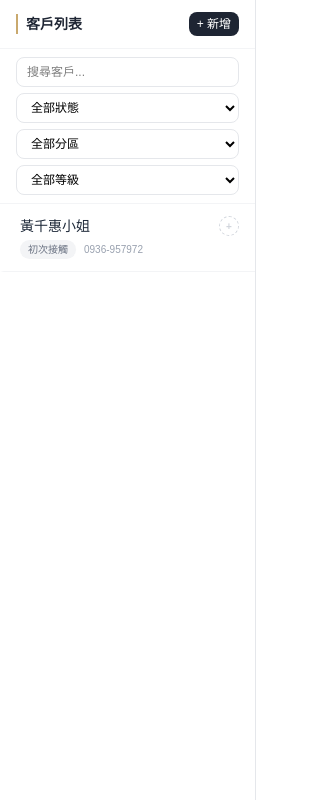
Test: ClientList — 客戶分級標籤 › 點徽章開啟選單，不會連帶觸發卡片本身的 select（現在改用 selectClient 內的 containment check，不是 stopPropagation）
What coordinates should you click on to do the following:
click the button with test id "grade-badge-c1"
I would click on:
 (229, 226)
Its box is [219,216,239,236].
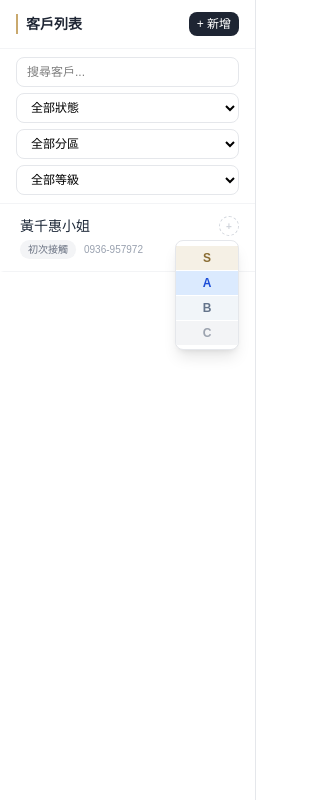
Check: the element with test id "grade-menu-c1" is shown, box [175,240,239,350]
